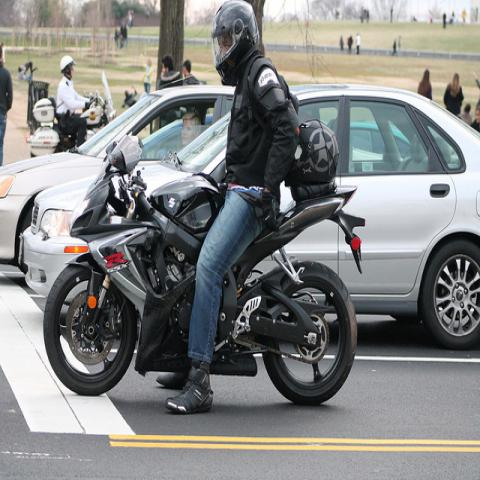car: (17, 81, 480, 351), (1, 83, 233, 268)
motorcycle: (44, 119, 366, 403), (28, 69, 115, 157)
